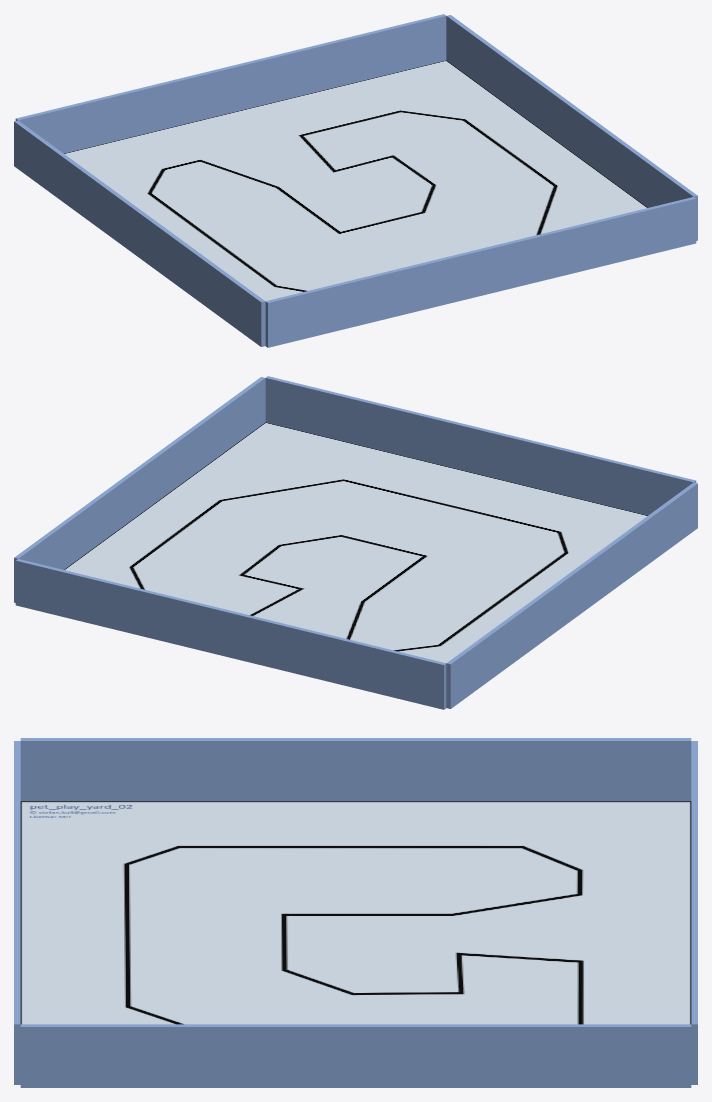
The model's file is pet_play_yard_02.dae.
3 views of the same model, one above another, from view 1: azimuth 30°, elevation 25°; view 2: azimuth 150°, elevation 25°; view 3: azimuth 270°, elevation 25° (orthographic). The views are drawn at different scales.
Visible parts, largest first — view 1: floor, wall_back.003, wall_back.002, wall_back, wall_back.001; view 2: floor, wall_back.002, wall_back.003, wall_back, wall_back.001; view 3: floor, wall_back.001, wall_back, wall_back.003, wall_back.002.
Boxes of the visible parts, <box> form: floor: <box>64,60,647,301</box>; wall_back.003: <box>265,197,696,347</box>; wall_back.002: <box>15,14,446,153</box>; wall_back: <box>14,120,265,346</box>; wall_back.001: <box>446,15,697,240</box>; floor: <box>64,422,647,663</box>; wall_back.002: <box>15,559,446,709</box>; wall_back.003: <box>265,376,696,515</box>; wall_back: <box>446,482,697,708</box>; wall_back.001: <box>14,377,265,602</box>; floor: <box>20,801,691,1024</box>; wall_back.001: <box>20,1024,691,1087</box>; wall_back: <box>20,738,691,801</box>; wall_back.003: <box>14,741,20,1084</box>; wall_back.002: <box>691,741,697,1084</box>.
Bounding box in the file's own units: 2.04 × 2.04 × 0.2.
2 materials, 1 textured.
